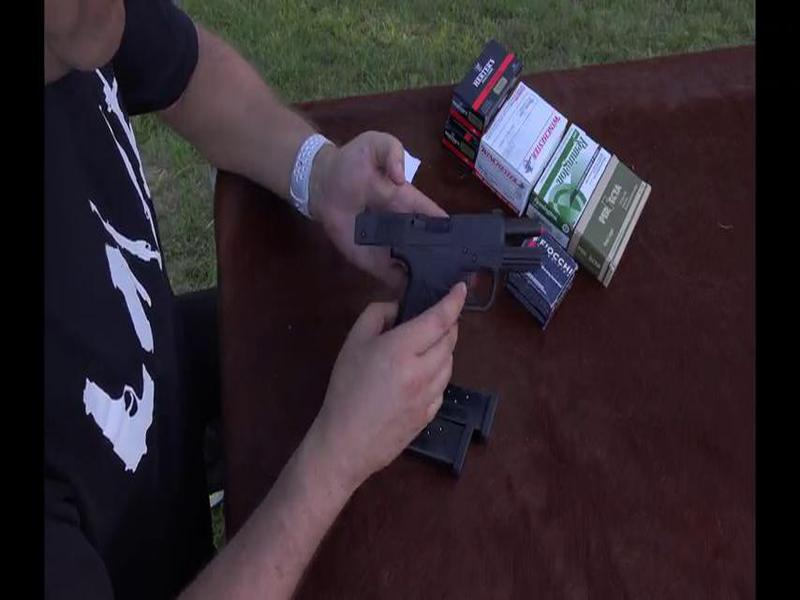Pistola: (343, 187, 574, 369)
